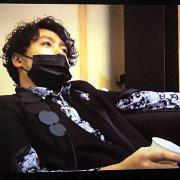WRONG: (19, 34, 71, 89)
